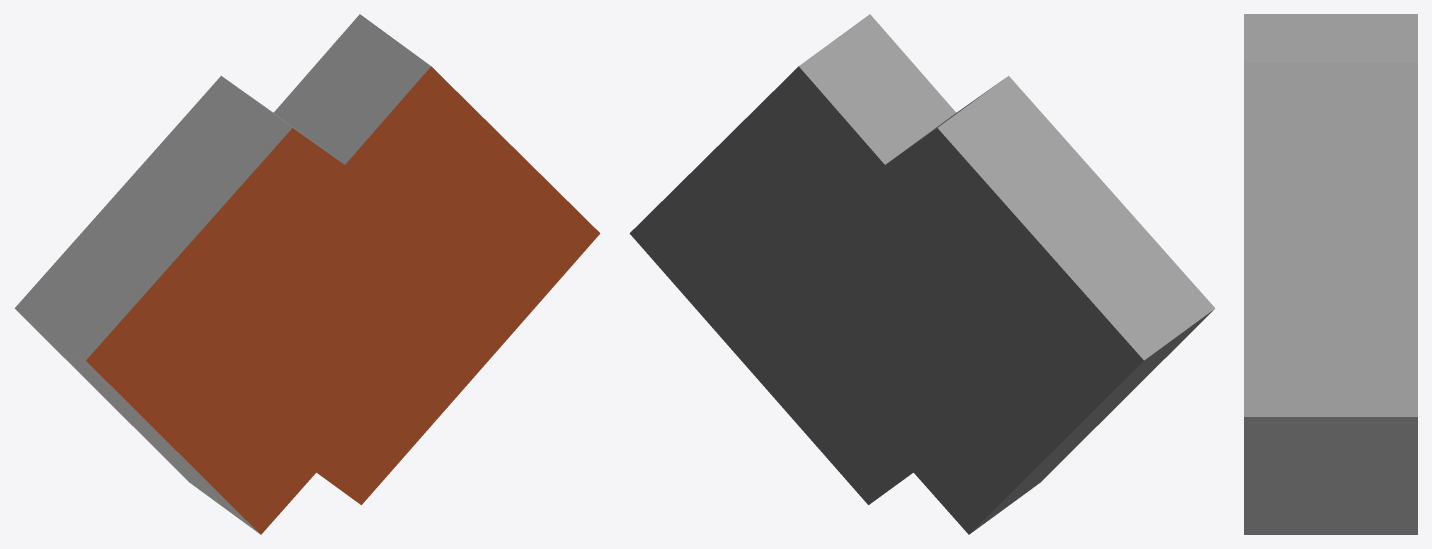
Rendered from construction_3974_assumed_A_Casa_h6m.obj.
3 renders of one model, left to right at view 1: azimuth 30°, elevation 25°; view 2: azimuth 150°, elevation 25°; view 3: azimuth 270°, elevation 25°, orthographic. The views are drawn at different scales.
Visible parts, largest first — view 1: construction_3974_assumed_A_Casa; view 2: construction_3974_assumed_A_Casa; view 3: construction_3974_assumed_A_Casa.
Part boxes in pixels (left/top/right/bottom): construction_3974_assumed_A_Casa: left=14, top=14, right=600, bottom=534; construction_3974_assumed_A_Casa: left=629, top=14, right=1215, bottom=534; construction_3974_assumed_A_Casa: left=1244, top=14, right=1417, bottom=534.
Bounding box in the file's own units: 24.98 × 19.82 × 6.
